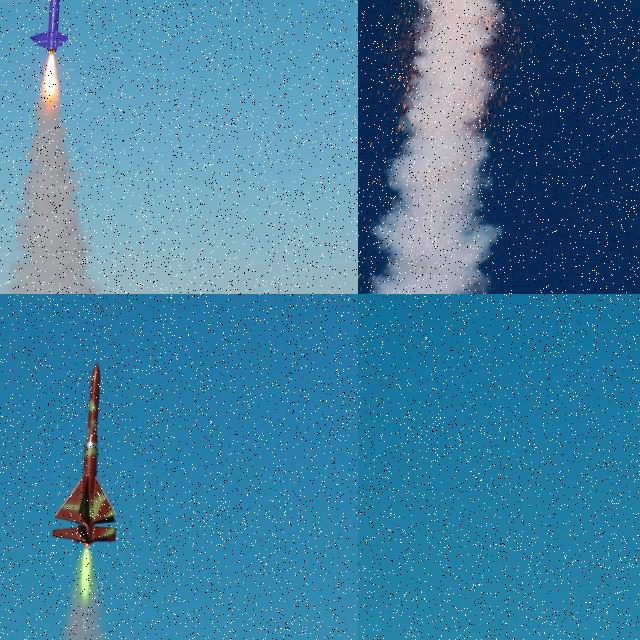Rocket: (51, 361, 119, 545), (29, 0, 70, 52)
